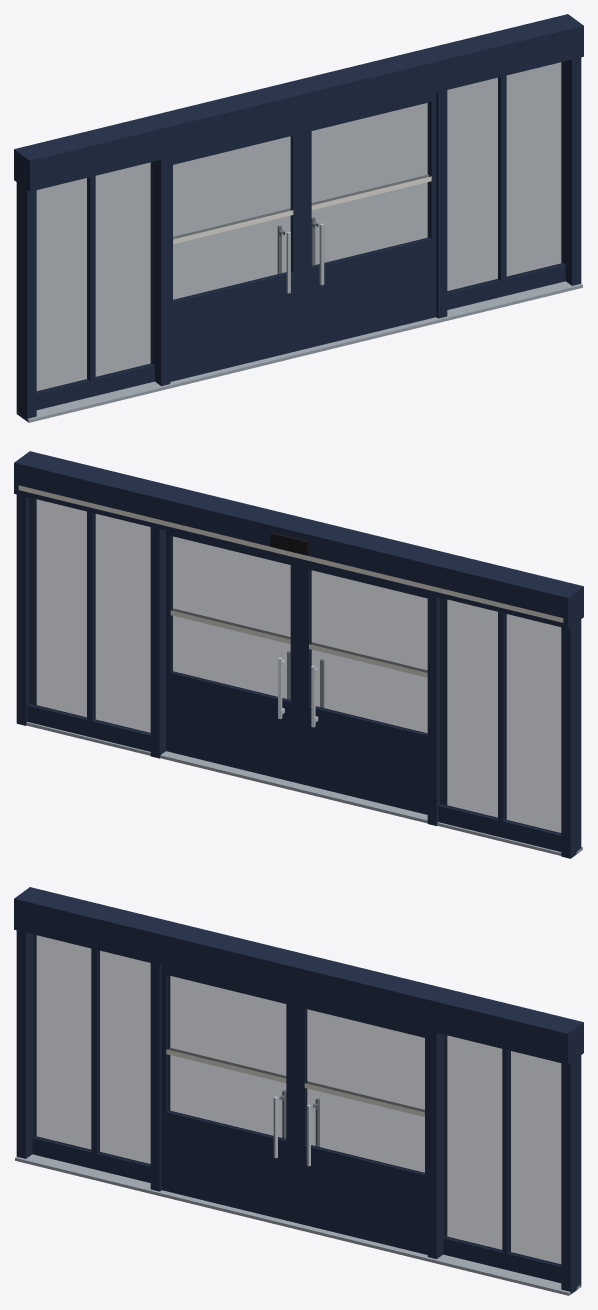
Rendered from police_door_pair.glb.
3 renders of one model, top to bottom at view 1: azimuth 30°, elevation 25°; view 2: azimuth 150°, elevation 25°; view 3: azimuth 330°, elevation 25°, orthographic.
Parts seen in each view (by area): view 1: Frame, Door_R, Door_L; view 2: Frame, Door_R, Door_L; view 3: Frame, Door_L, Door_R.
Boxes of the visible parts, x1=… form: Frame: x1=14, y1=14, x2=583, y2=422; Door_R: x1=302, y1=93, x2=436, y2=349; Door_L: x1=170, y1=125, x2=302, y2=381; Frame: x1=14, y1=451, x2=583, y2=858; Door_R: x1=166, y1=531, x2=299, y2=783; Door_L: x1=300, y1=563, x2=427, y2=814; Frame: x1=14, y1=887, x2=583, y2=1295; Door_L: x1=161, y1=966, x2=295, y2=1222; Door_R: x1=295, y1=998, x2=427, y2=1254.
Bounding box in the file's own units: 6 × 2.72 × 0.34.
